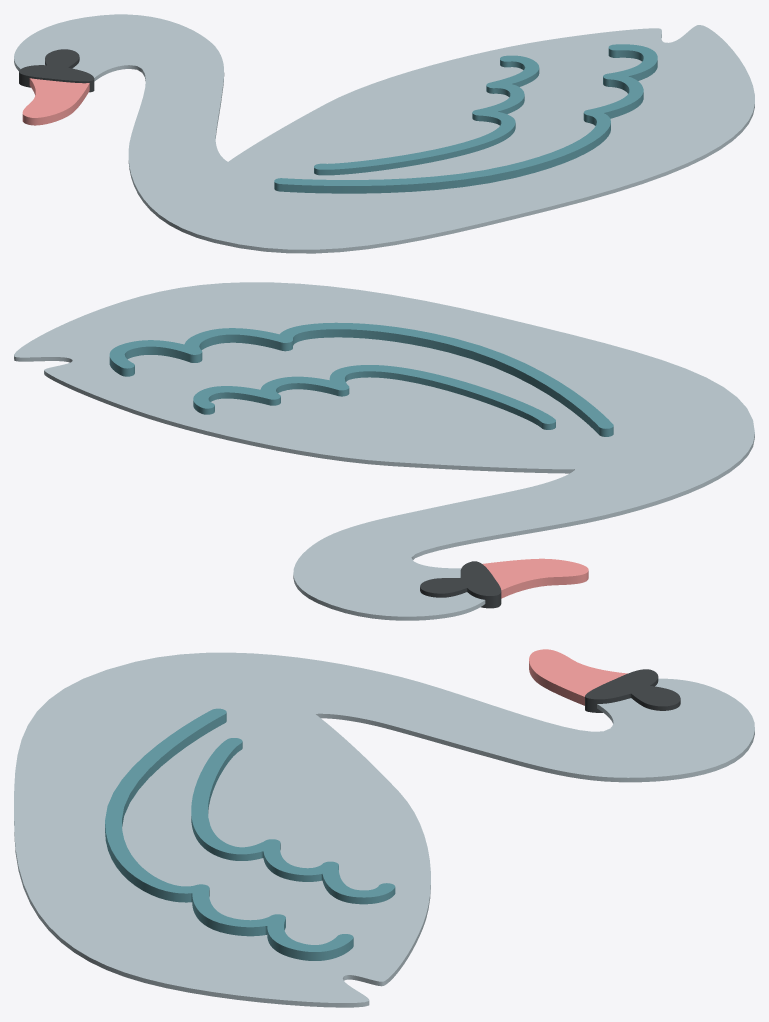
The model's file is emoji_u1f9a2.glb.
3 renders of one model, top to bottom at view 1: azimuth 30°, elevation 25°; view 2: azimuth 150°, elevation 25°; view 3: azimuth 270°, elevation 25°, orthographic. The views are drawn at different scales.
Parts seen in each view (by area): view 1: emoji_u1f9a2; view 2: emoji_u1f9a2; view 3: emoji_u1f9a2.
Part boxes in pixels (x1,y1,x2,y2): emoji_u1f9a2: (14,14,754,253); emoji_u1f9a2: (14,282,754,620); emoji_u1f9a2: (14,649,754,1007).
Bounding box in the file's own units: 0.0335 × 0.001 × 0.0299.
